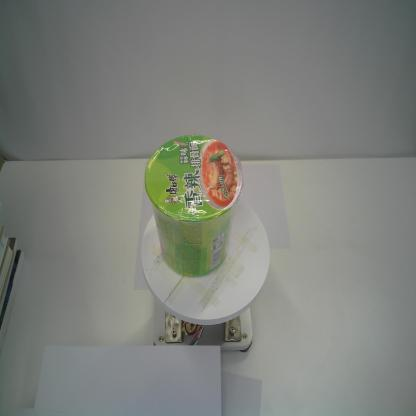Instant Noodles: (144, 133, 244, 280)
